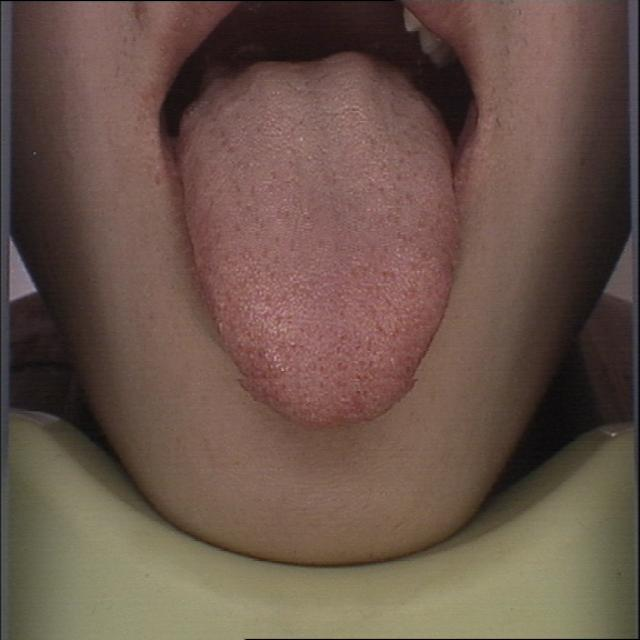tongue: (176, 39, 466, 439)
